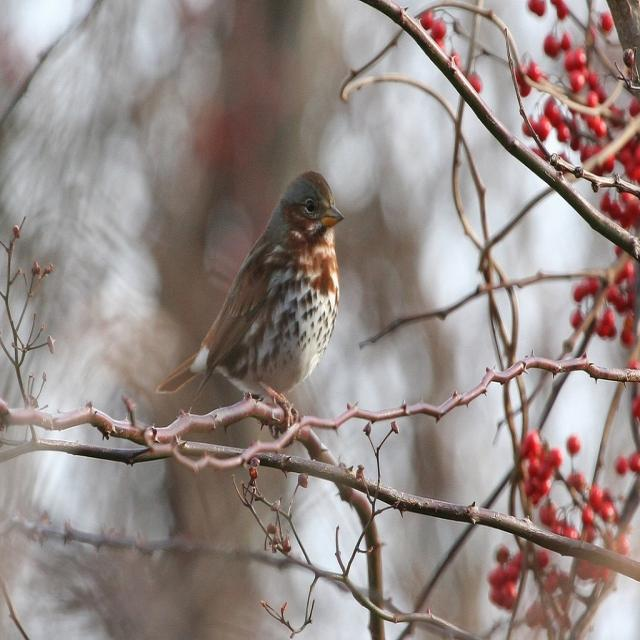bird: (151, 168, 352, 458)
